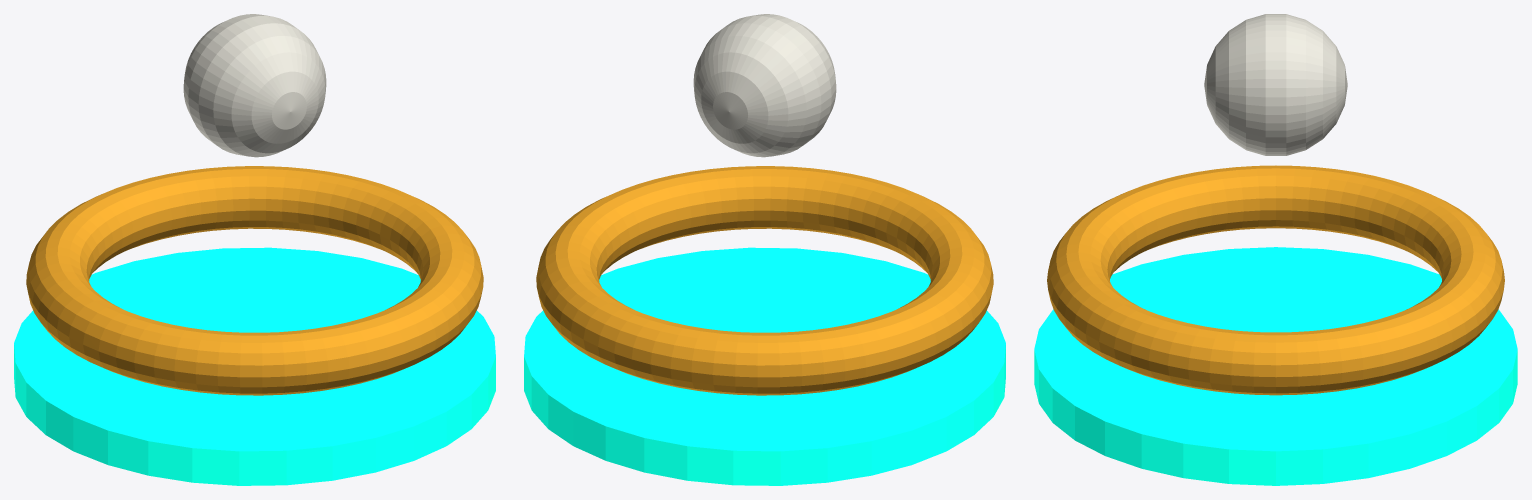
The model's file is fashion_ring.dae.
3 views of the same model, side by side, from view 1: azimuth 30°, elevation 25°; view 2: azimuth 150°, elevation 25°; view 3: azimuth 270°, elevation 25° (orthographic).
Parts seen in each view (by area): view 1: 06_12_Popular_Fashion_Ring_ROOT_base, 06_12_Popular_Fashion_Ring_part_01, 06_12_Popular_Fashion_Ring_part_02; view 2: 06_12_Popular_Fashion_Ring_ROOT_base, 06_12_Popular_Fashion_Ring_part_01, 06_12_Popular_Fashion_Ring_part_02; view 3: 06_12_Popular_Fashion_Ring_ROOT_base, 06_12_Popular_Fashion_Ring_part_01, 06_12_Popular_Fashion_Ring_part_02.
Boxes of the visible parts, left/top/right/bottom form: 06_12_Popular_Fashion_Ring_ROOT_base: left=14, top=247, right=495, bottom=485; 06_12_Popular_Fashion_Ring_part_01: left=26, top=166, right=483, bottom=395; 06_12_Popular_Fashion_Ring_part_02: left=183, top=14, right=326, bottom=157; 06_12_Popular_Fashion_Ring_ROOT_base: left=524, top=247, right=1005, bottom=485; 06_12_Popular_Fashion_Ring_part_01: left=536, top=166, right=993, bottom=395; 06_12_Popular_Fashion_Ring_part_02: left=693, top=14, right=836, bottom=157; 06_12_Popular_Fashion_Ring_ROOT_base: left=1034, top=247, right=1517, bottom=485; 06_12_Popular_Fashion_Ring_part_01: left=1047, top=165, right=1504, bottom=395; 06_12_Popular_Fashion_Ring_part_02: left=1204, top=14, right=1347, bottom=155.
Size of the model in its own units: 0.76 by 0.63 by 0.76.
